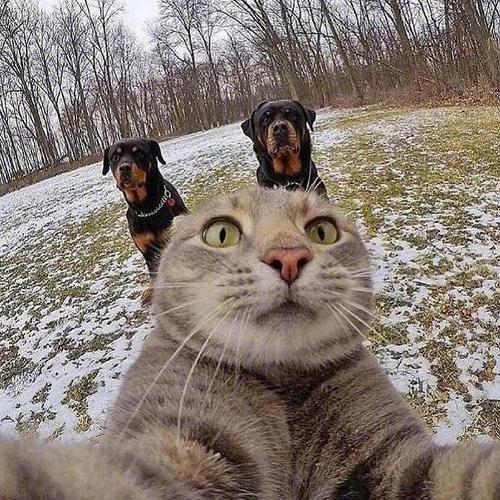cat: (146, 182, 390, 376)
